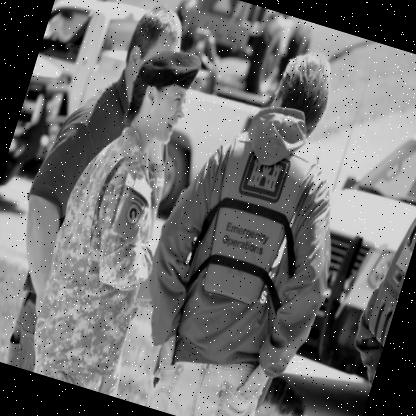Car: (283, 99, 415, 379), (0, 53, 83, 200)
